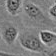cell: (9, 25, 20, 35), (16, 46, 26, 56), (48, 26, 56, 38), (40, 4, 50, 13), (18, 14, 28, 23), (22, 4, 31, 13), (44, 44, 53, 53)
